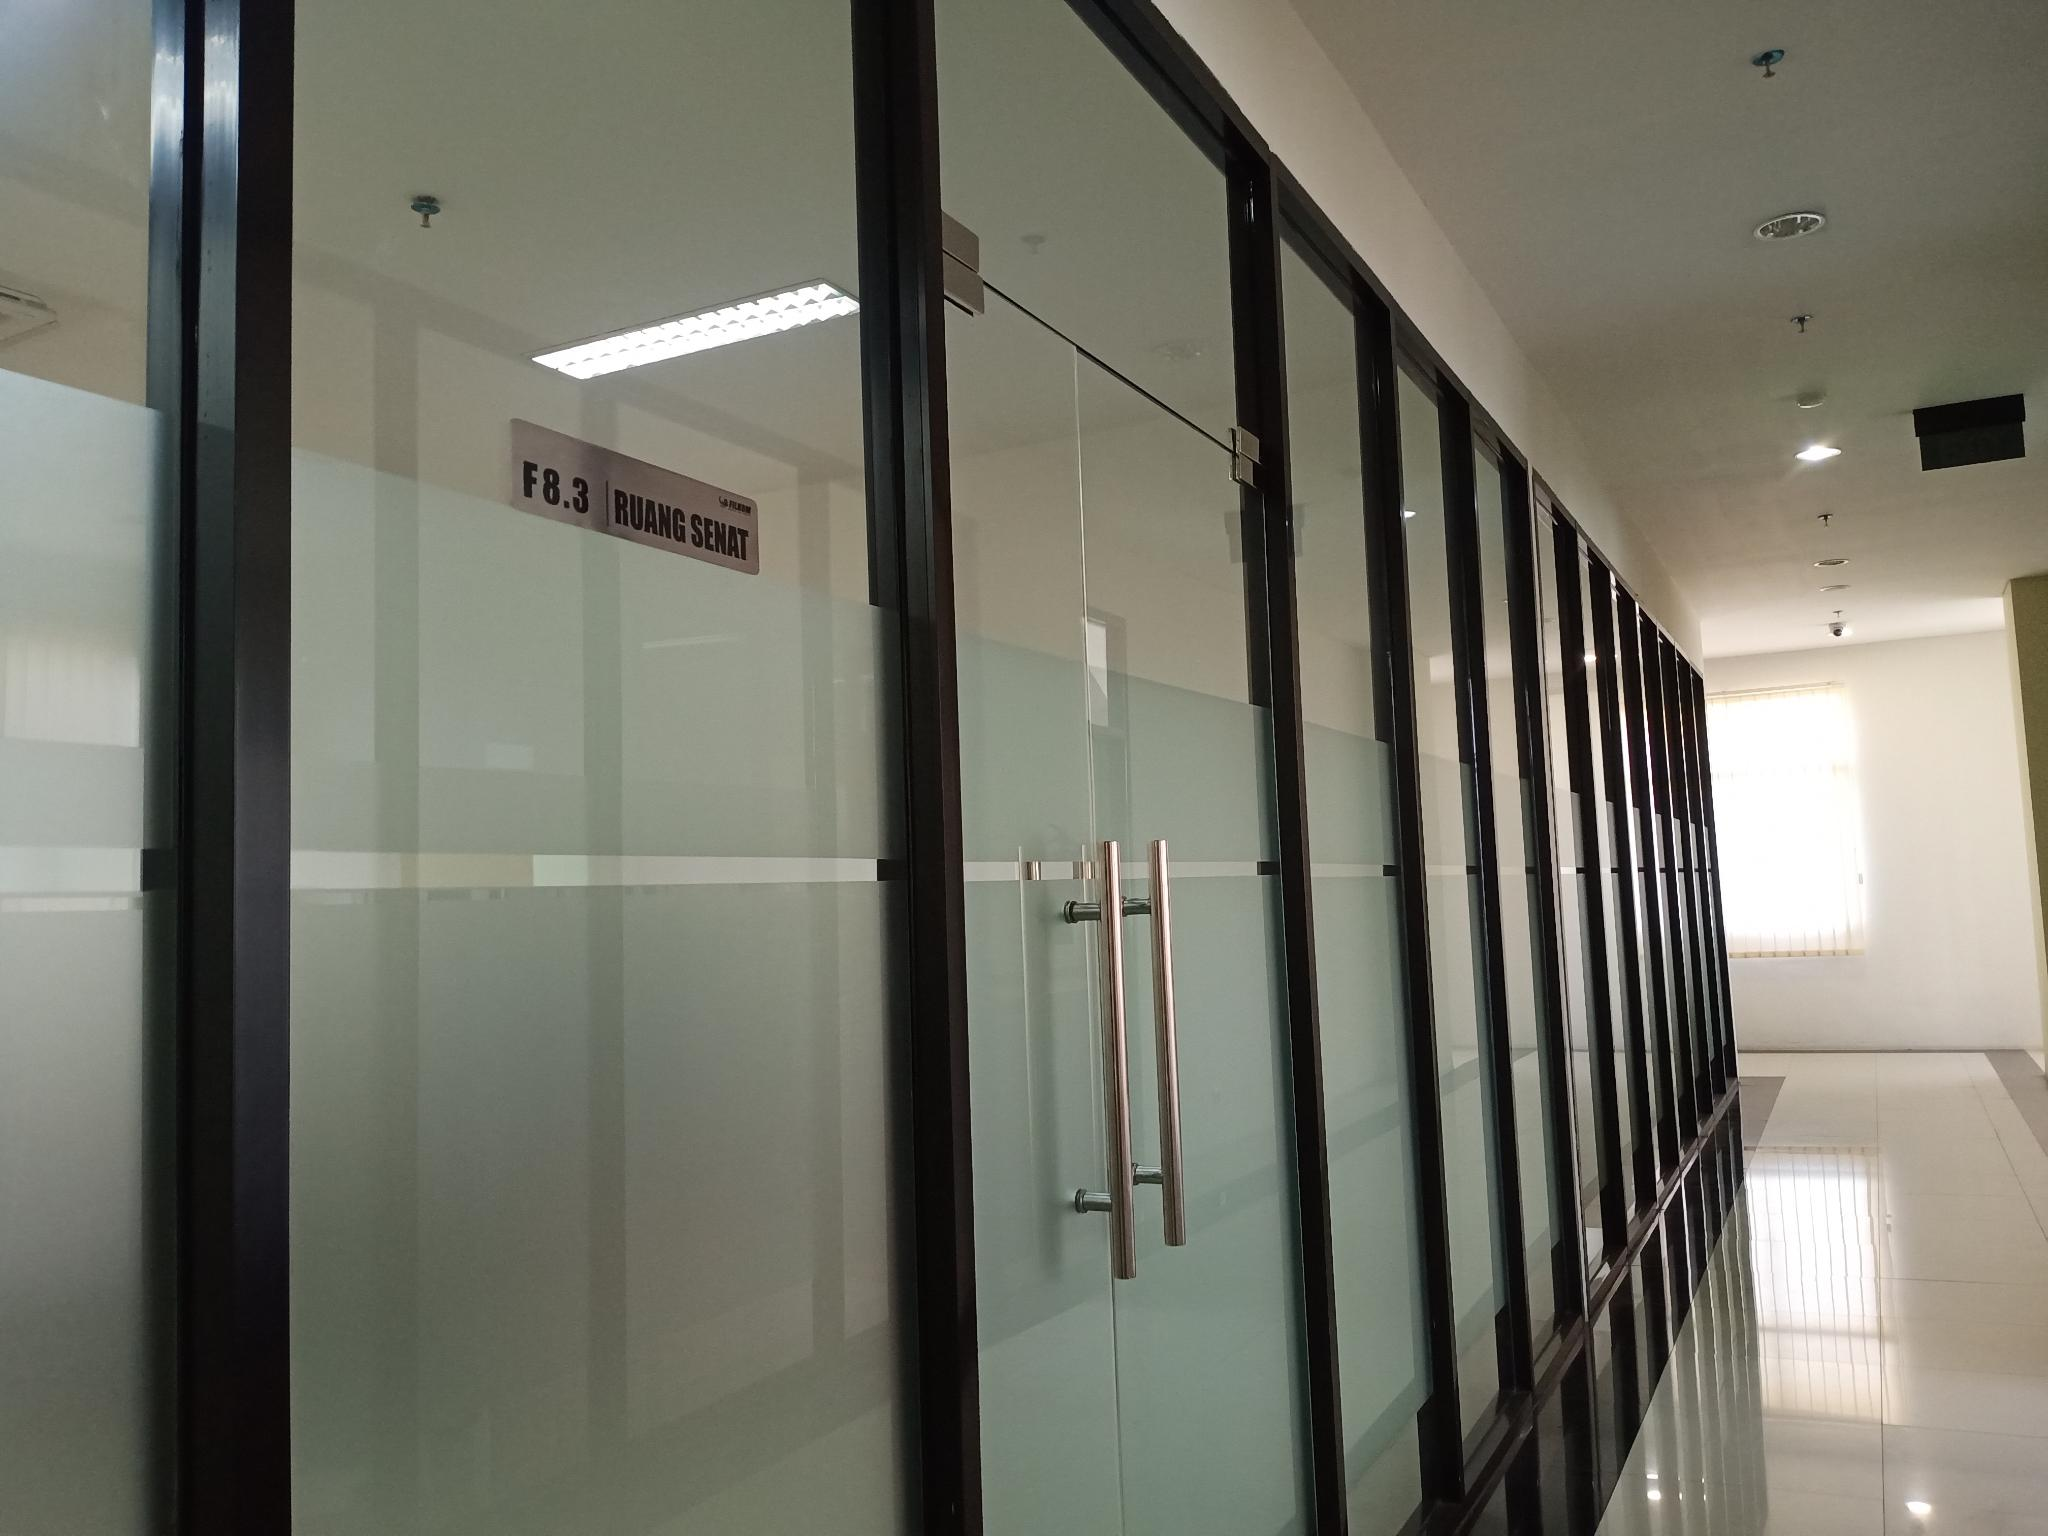plate: (506, 415, 761, 578)
